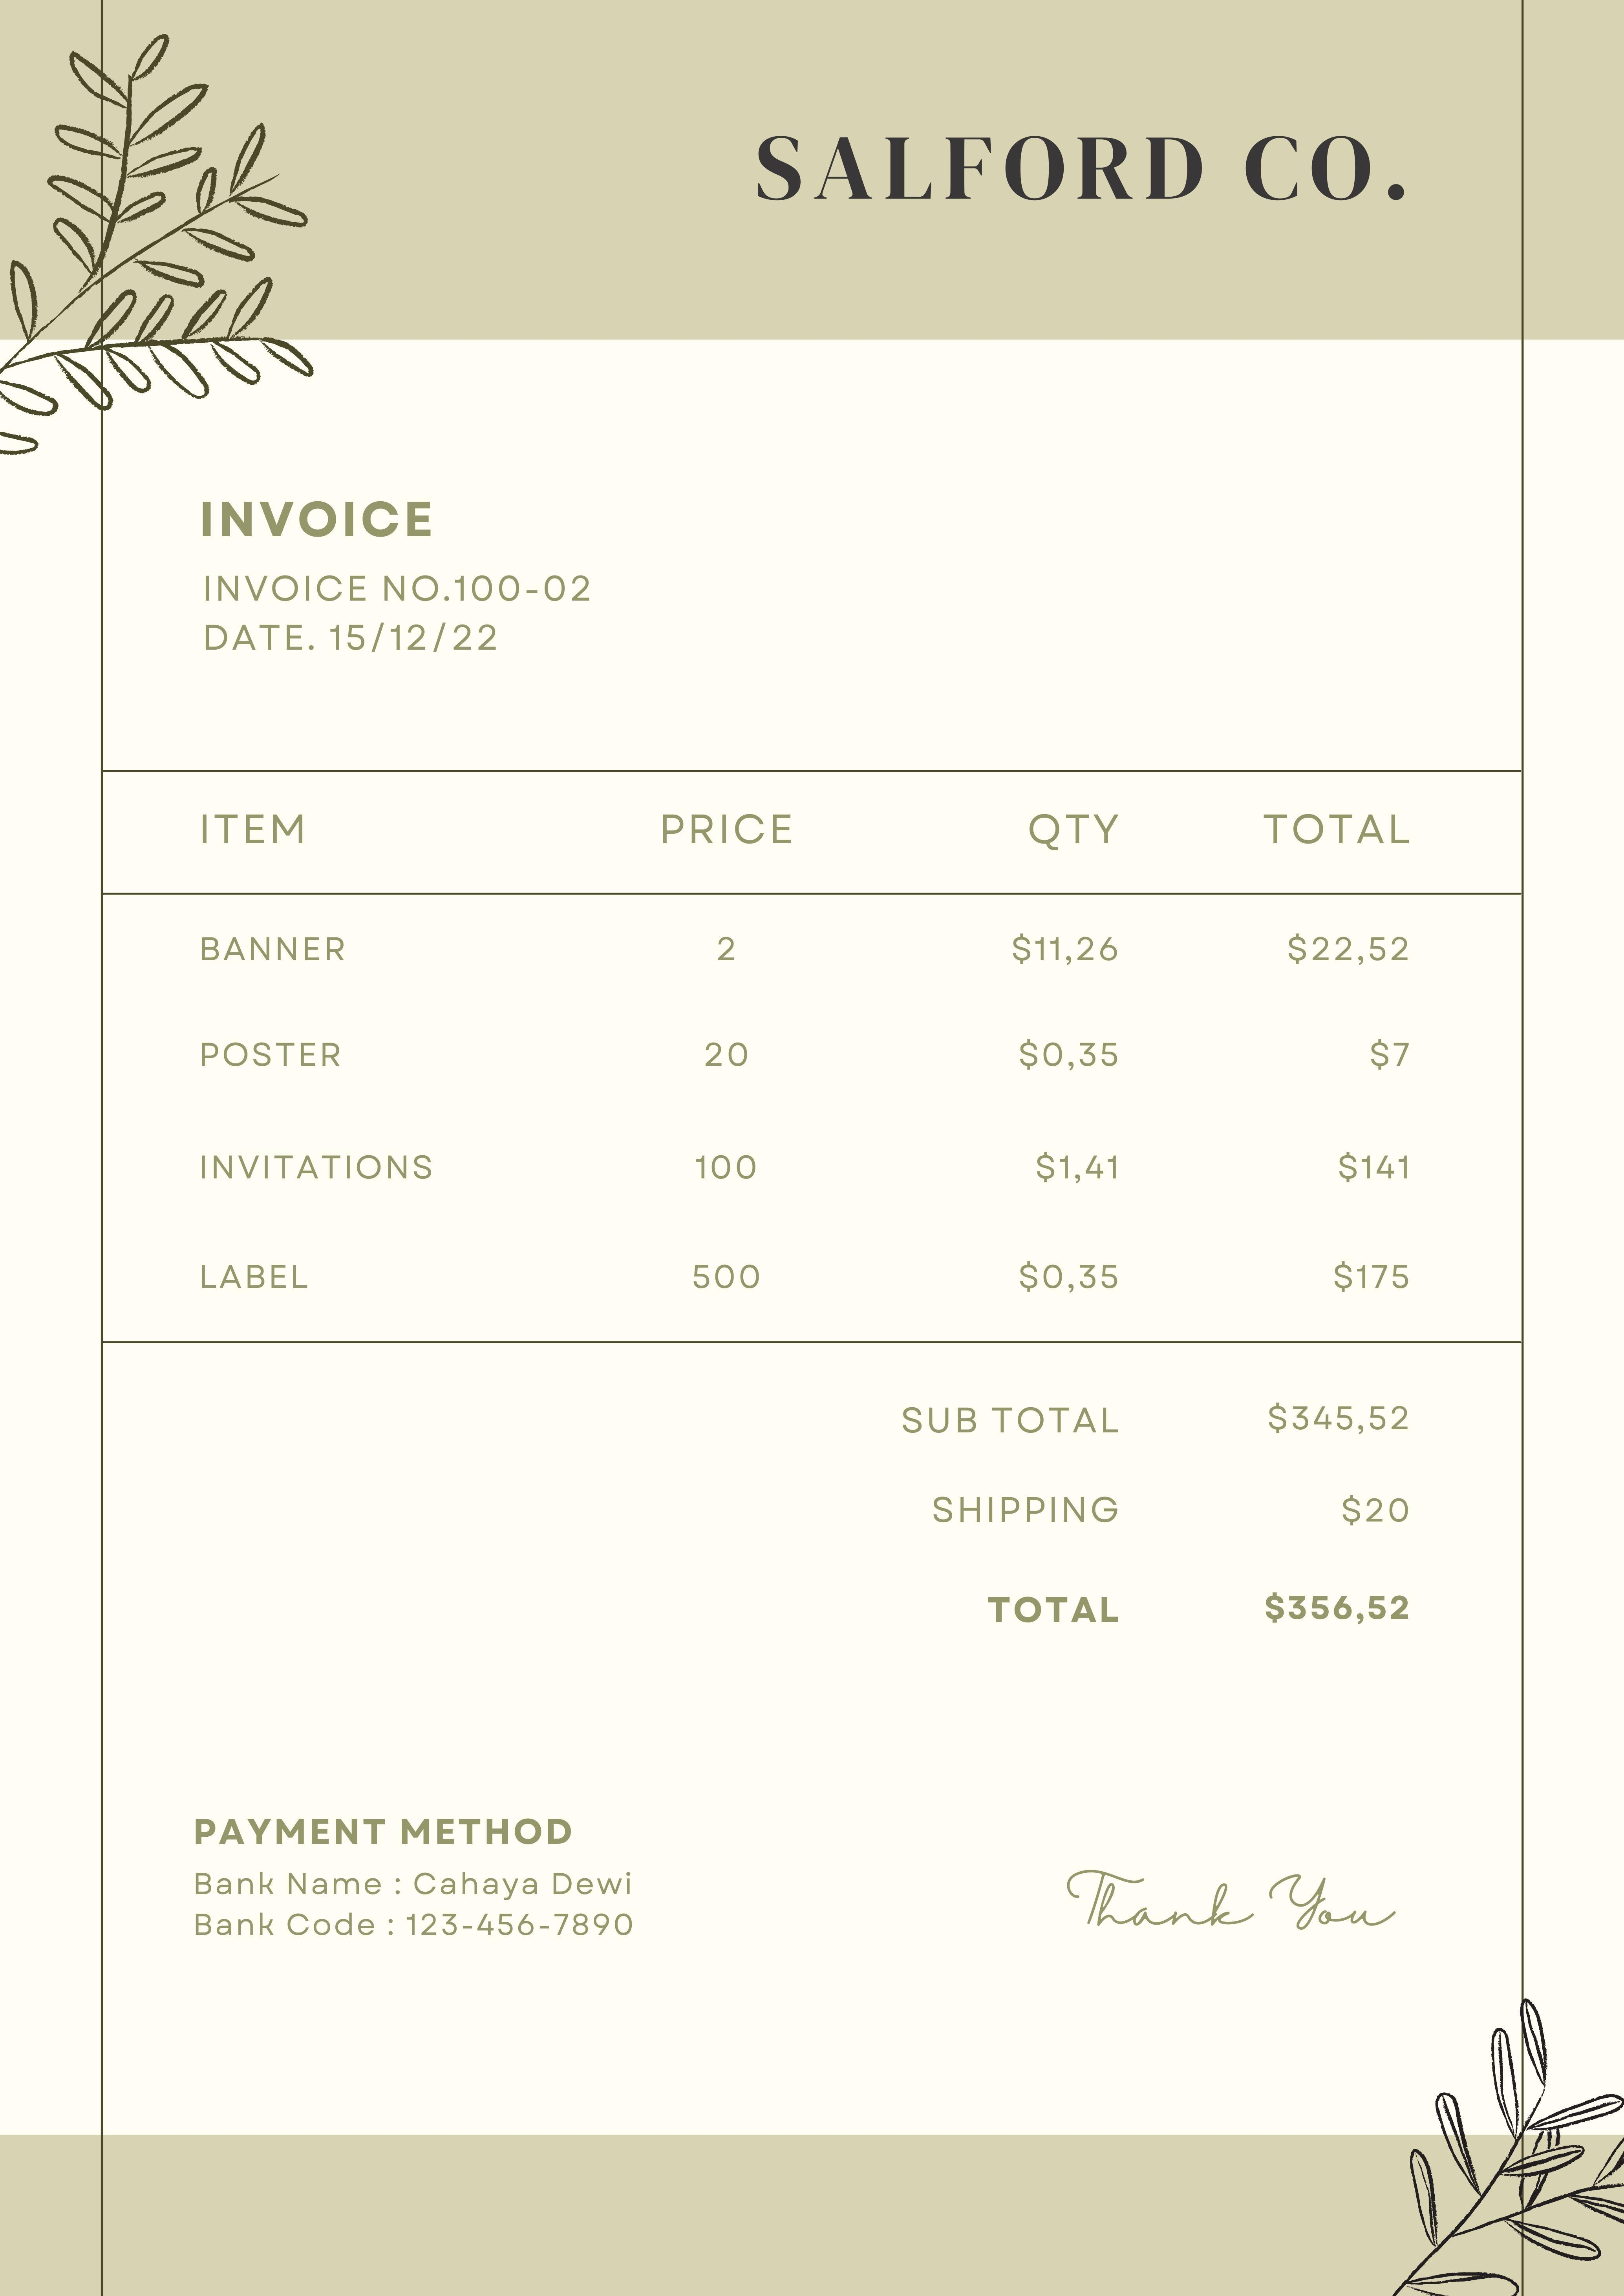ROI: (165, 769, 1469, 1318), (883, 1382, 1441, 1631), (738, 114, 1436, 231), (181, 1802, 652, 1964), (173, 545, 658, 688)
